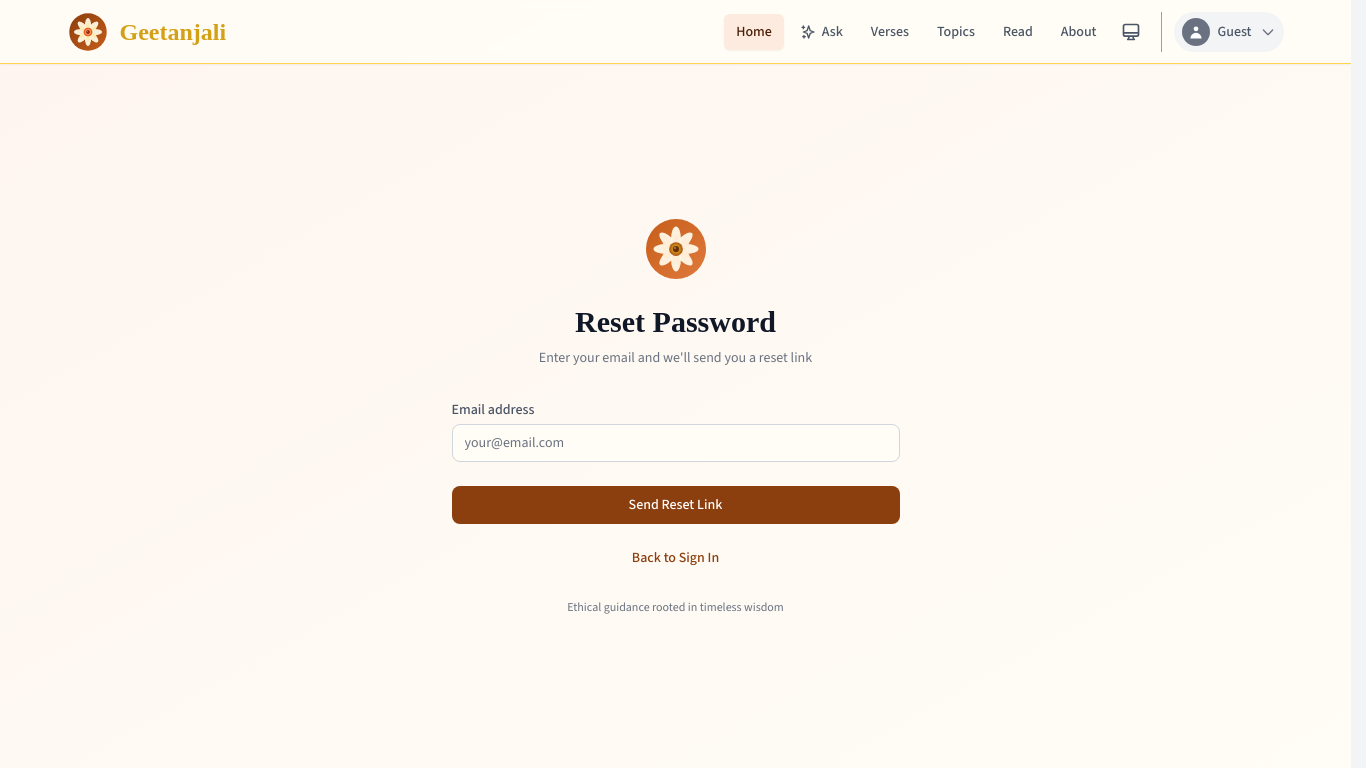
Test case: ForgotPassword Page › should show error message on failure
The image size is (1366, 768).
Type "test@example.com" into the field labelled "Email address".
click(676, 442); type("test@example.com")  # box [452,424,900,462]
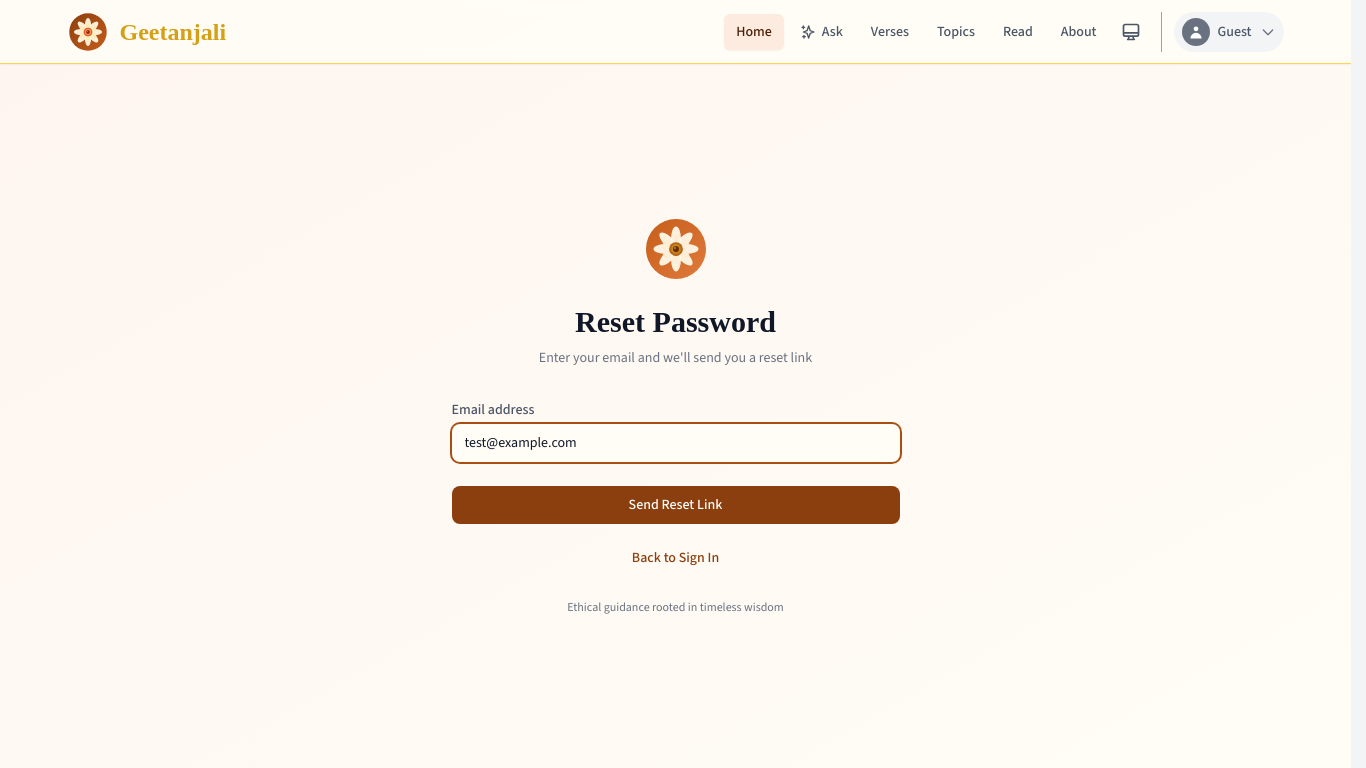
Click the button "Send Reset Link".
click(676, 504)  # box [452,486,900,524]
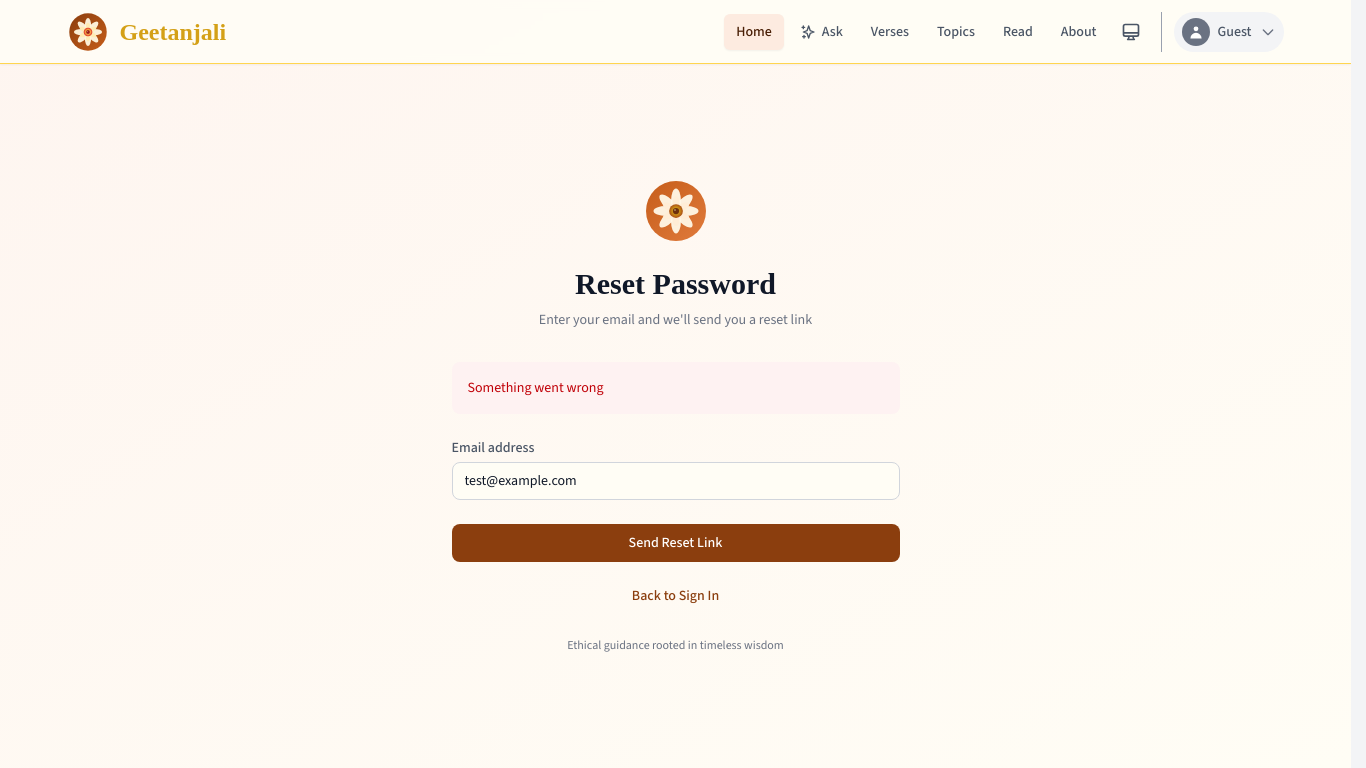
Expected: the text "Something went wrong" is shown, [468,378,604,398]
